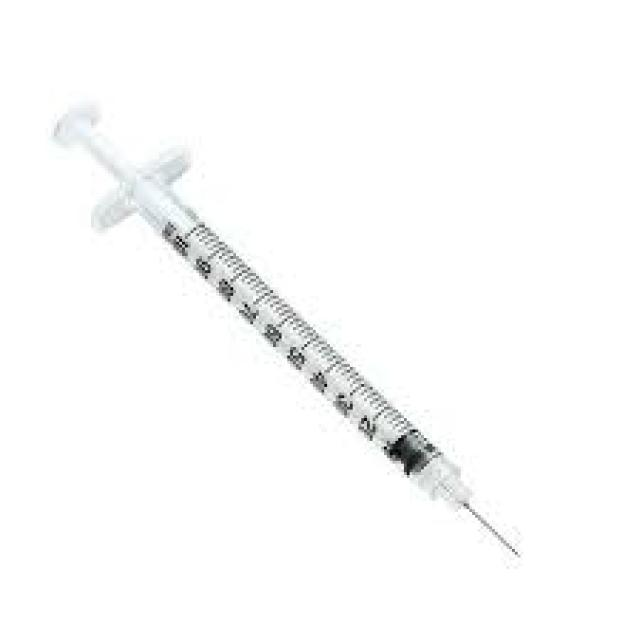syringe: (48, 94, 520, 560)
